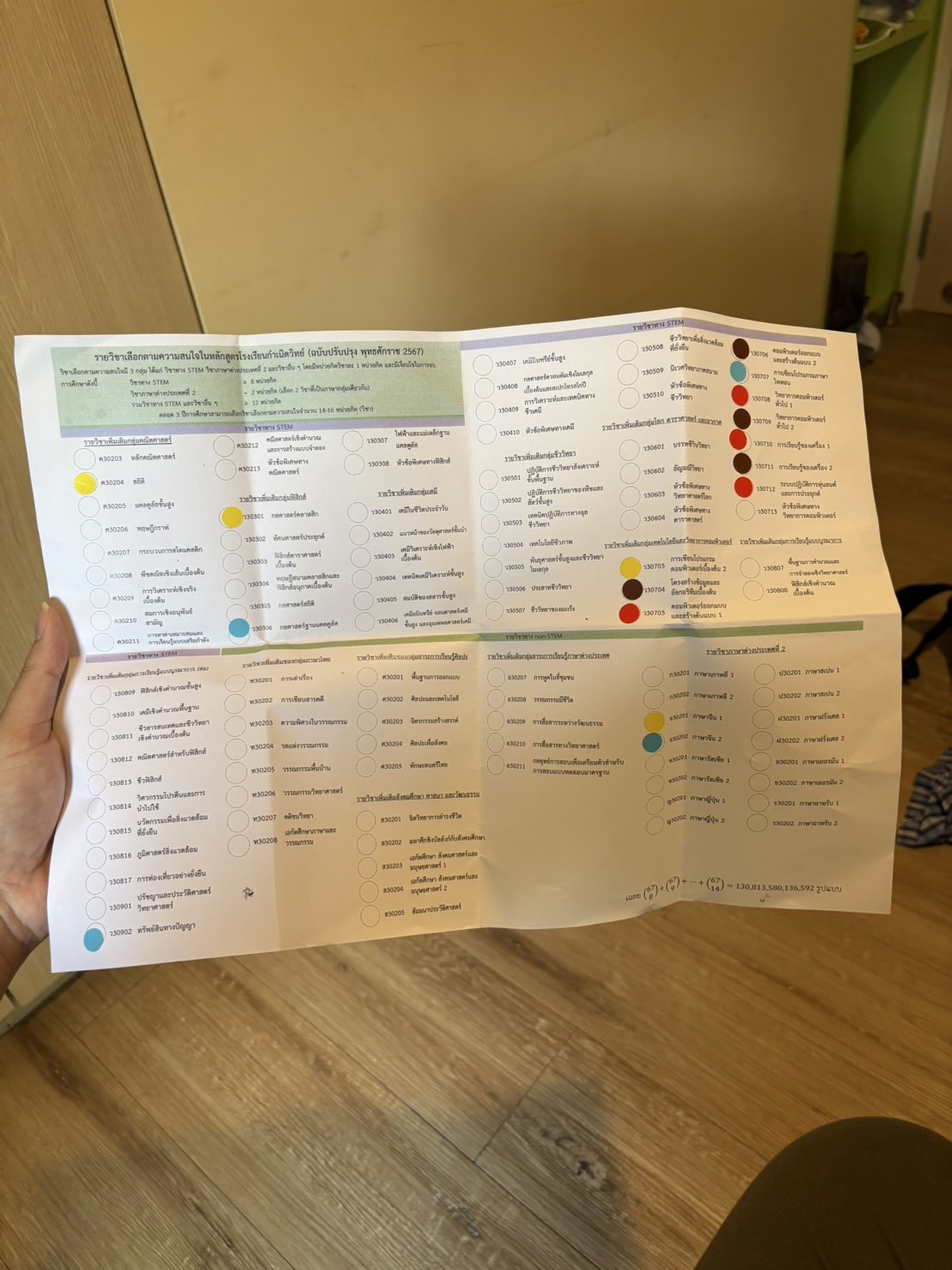paper: (14, 307, 902, 973)
